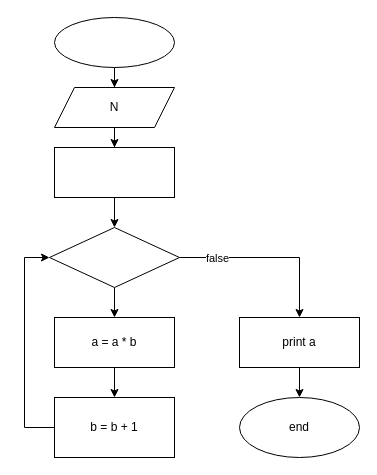
Image size: 377x475. Some labels were removed from this diagram. The box of each missing label's shape, as (x1, y1, x2, y2) in pixels:
a = 1 b = 1: (54, 146, 174, 198)
b <= N: (48, 226, 180, 288)
start: (54, 16, 174, 68)
